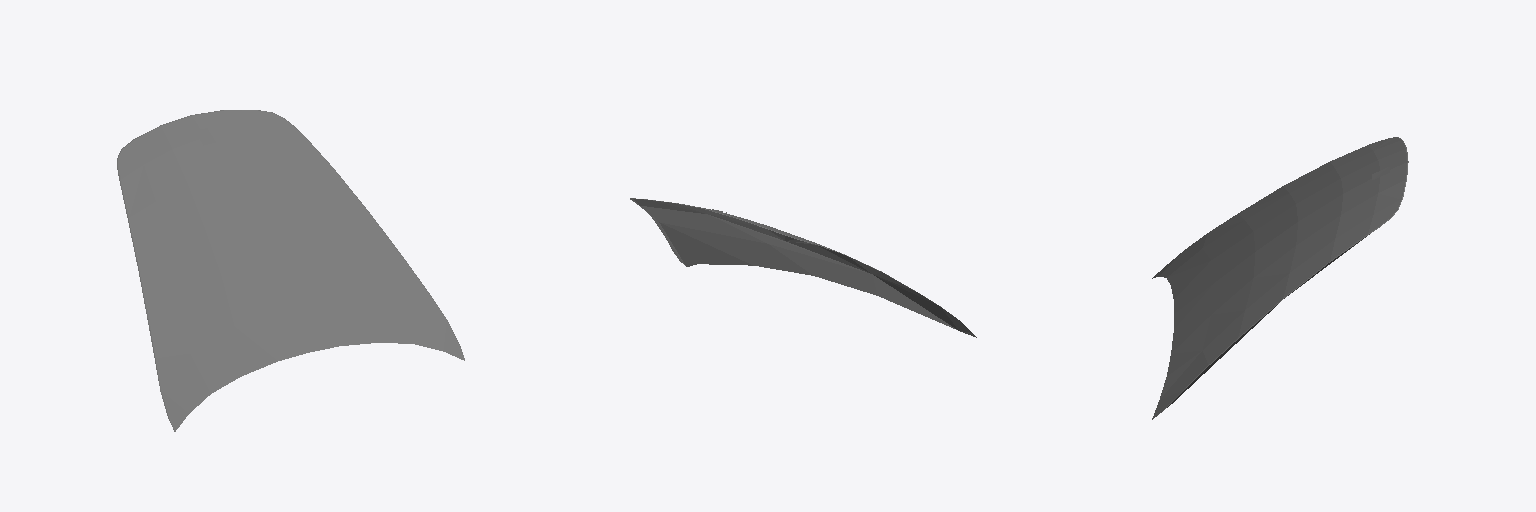
Rendered from cofre.obj.
The picture shows the model from 3 angles: view 1: azimuth 30°, elevation 25°; view 2: azimuth 150°, elevation 25°; view 3: azimuth 270°, elevation 25°; orthographic projection.
Visible parts, largest first — view 1: part_015; view 2: part_015; view 3: part_015.
Part boxes in pixels (bbox=[...]): part_015: bbox=[117, 110, 464, 431]; part_015: bbox=[630, 198, 976, 337]; part_015: bbox=[1152, 137, 1408, 419].
Bounding box in the file's own units: 1.33 × 0.8188 × 1.02.